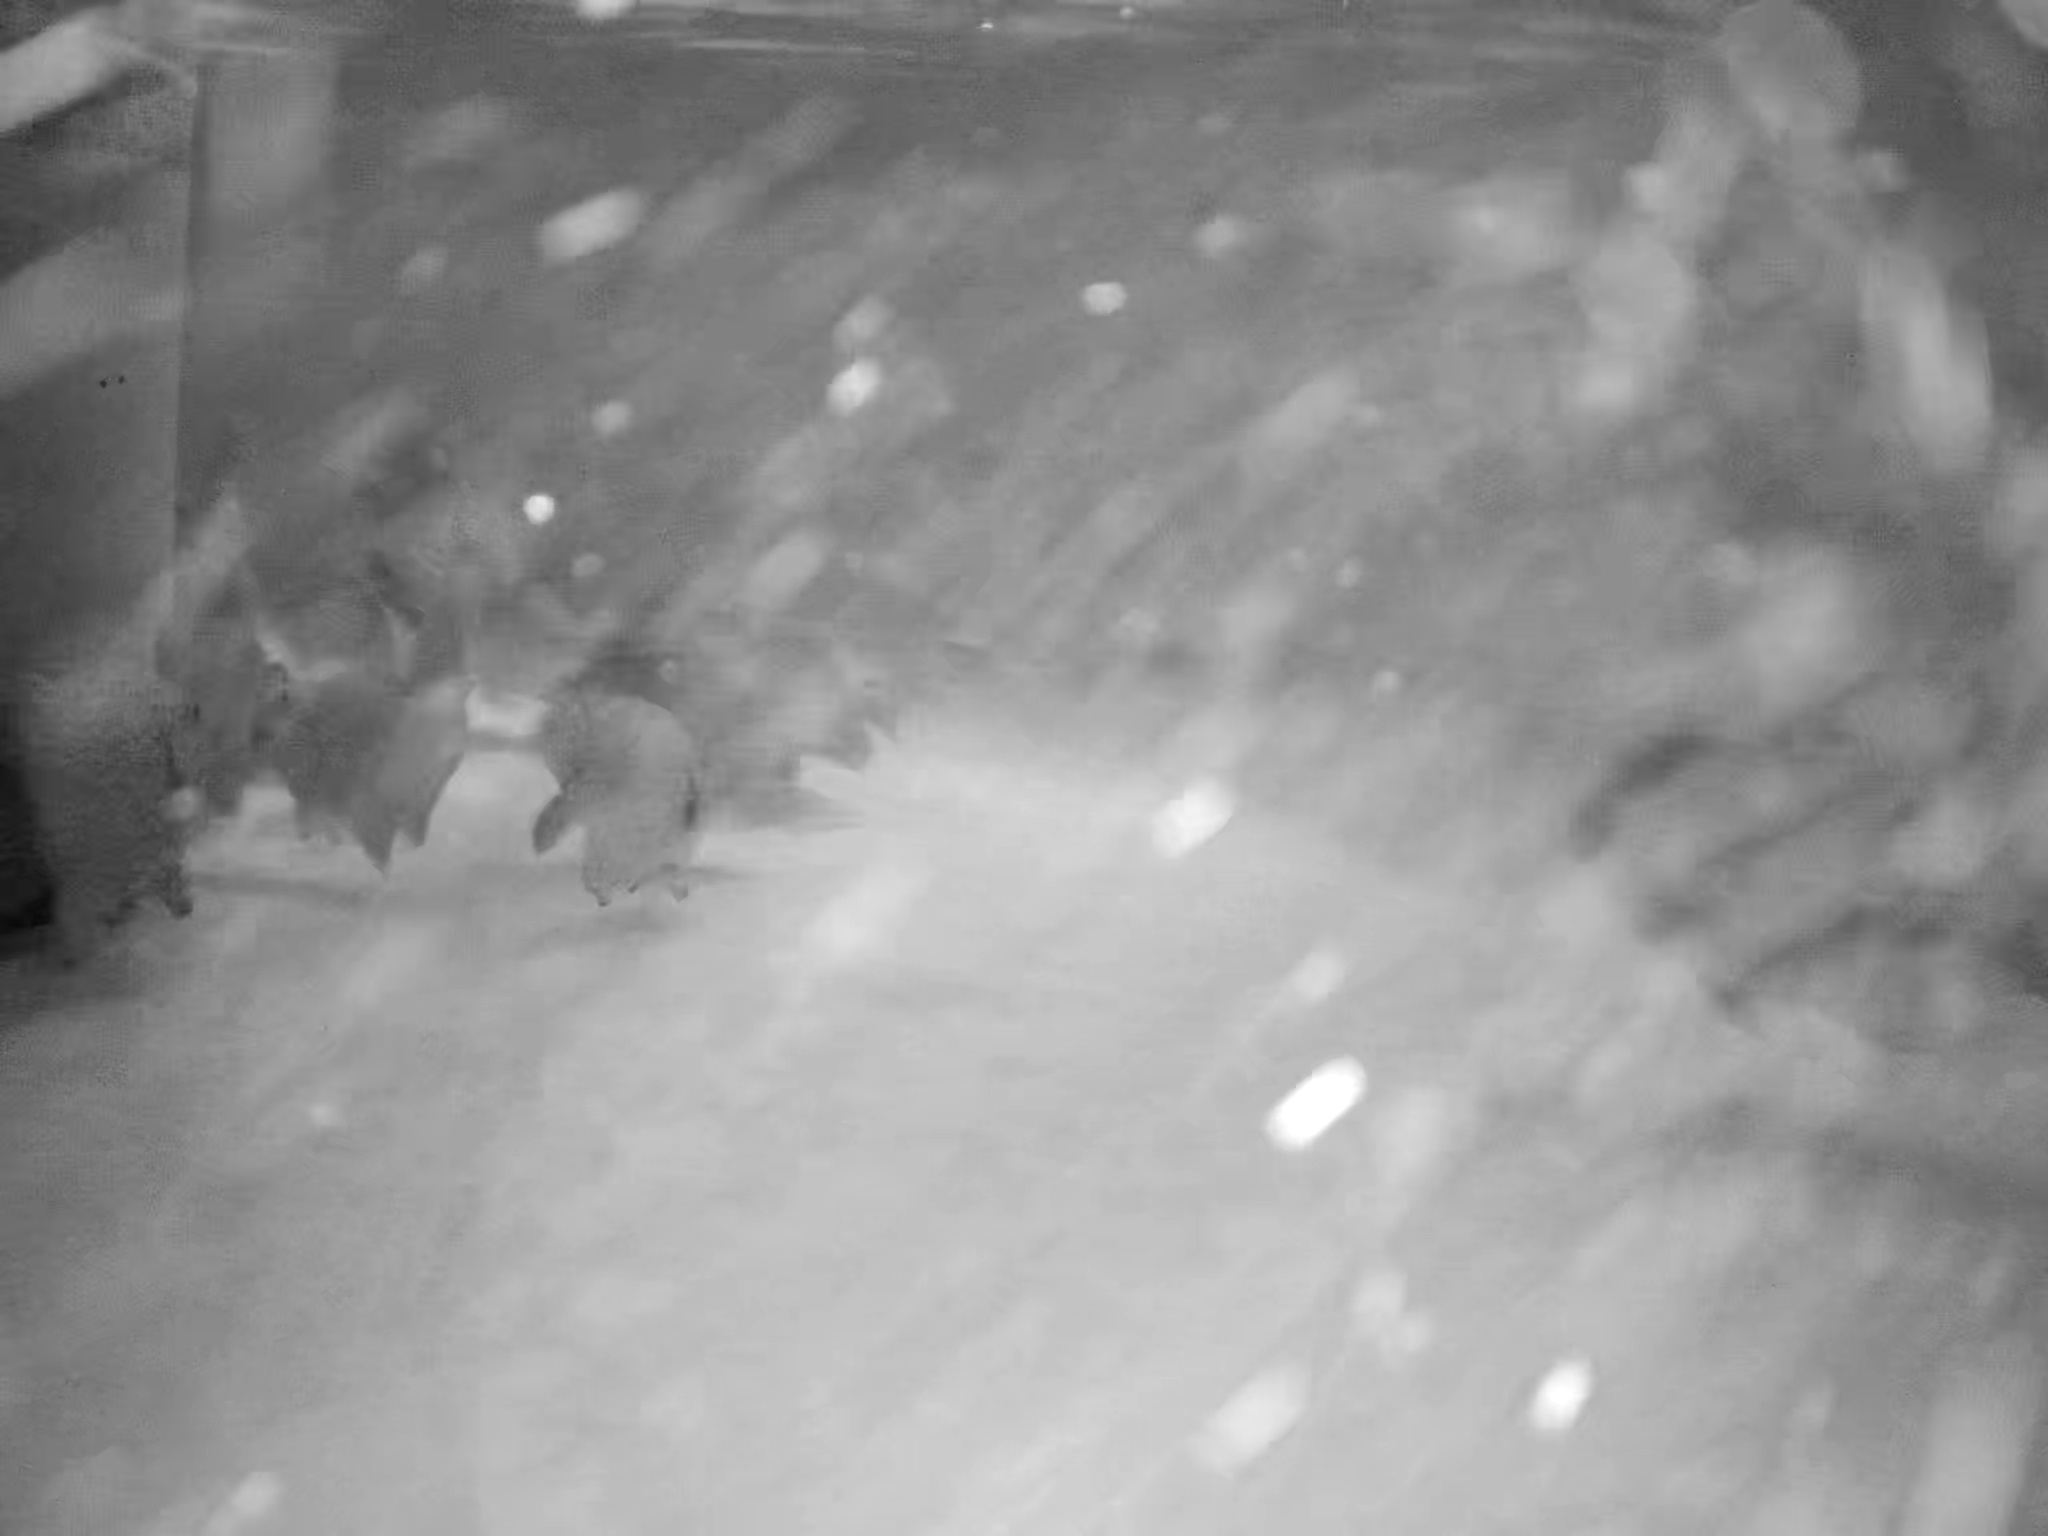fish: (15, 637, 214, 923), (527, 686, 716, 920), (269, 663, 479, 860), (813, 542, 1008, 710), (358, 529, 500, 731), (161, 594, 289, 816), (737, 608, 893, 771)
